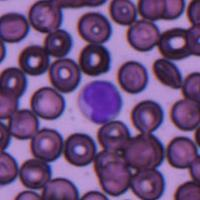M: (77, 78, 123, 124)
